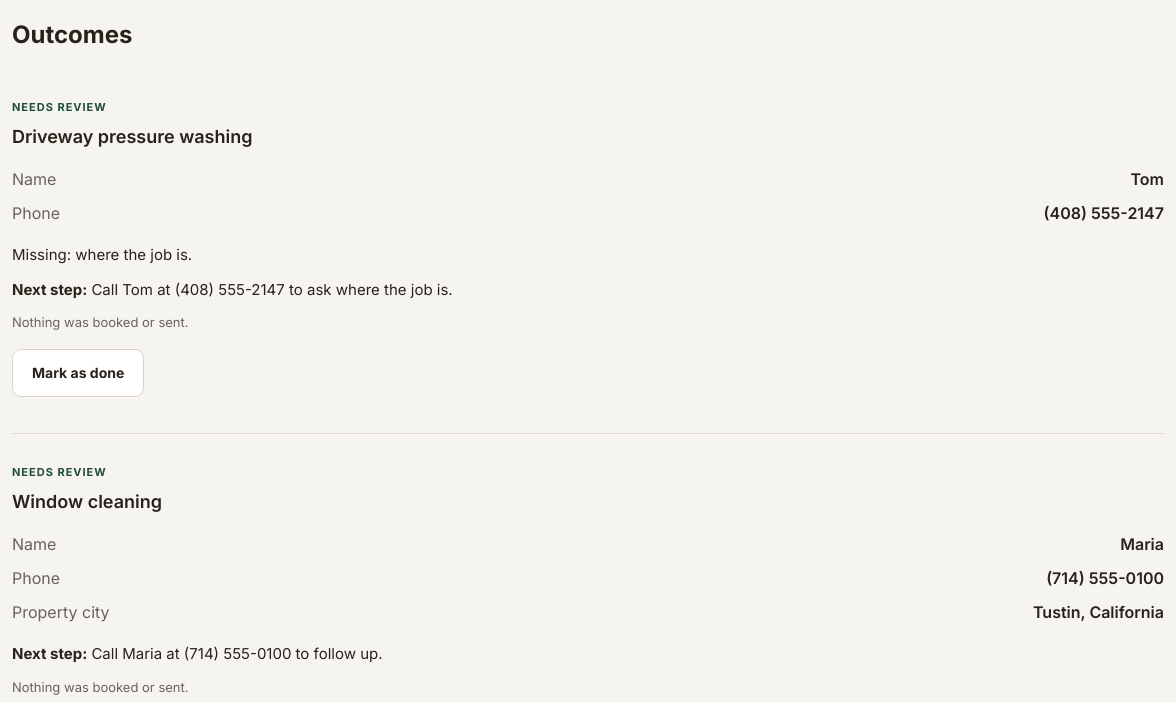
Test: Mark as done (VA-T16) › keeps the note as it was when the update fails, says so, and succeeds on retry
Click the button "Mark as done" below "Missing:" at [78, 373], box [12,349,144,397]
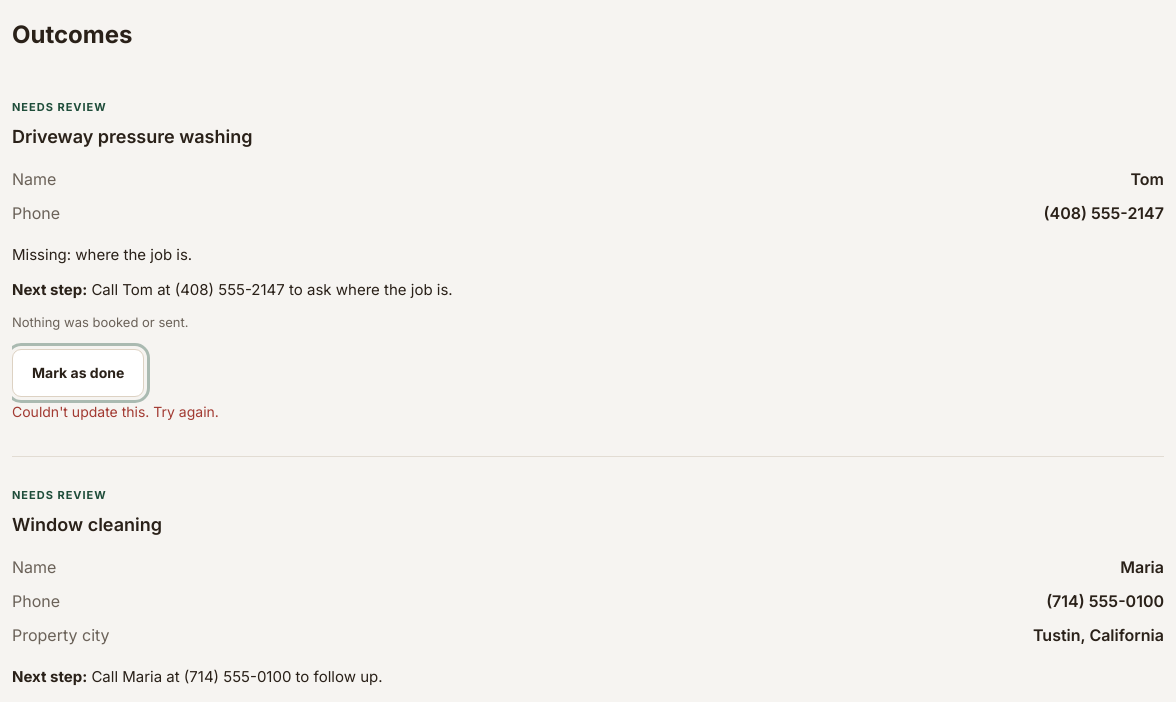
Check: the 1st text "Needs review" is shown, box [12,100,107,114]
Check: the message reads "Couldn't update this. Try again.", box [12,403,219,420]
Click the button "Mark as done" at [78, 373], box [12,349,144,397]
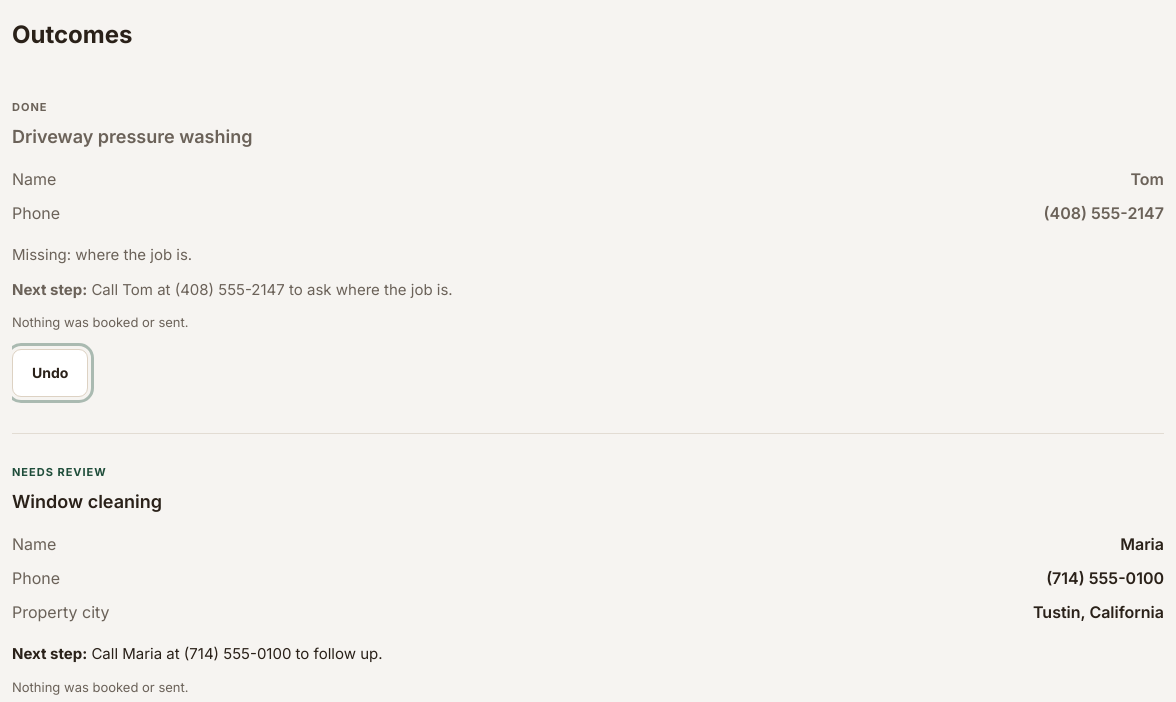
Check: the button "Undo" is shown, box [12,349,88,397]
Check: the message "Couldn't update this. Try again." is gone
